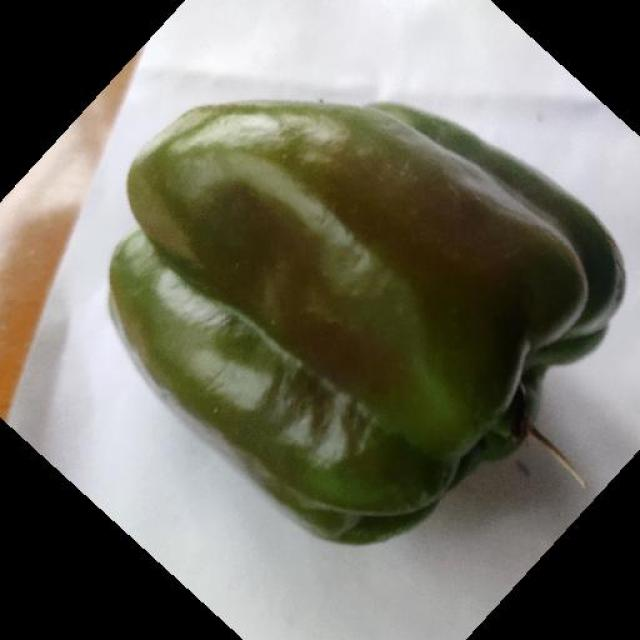Stale_Capsicum: (96, 90, 596, 532)
